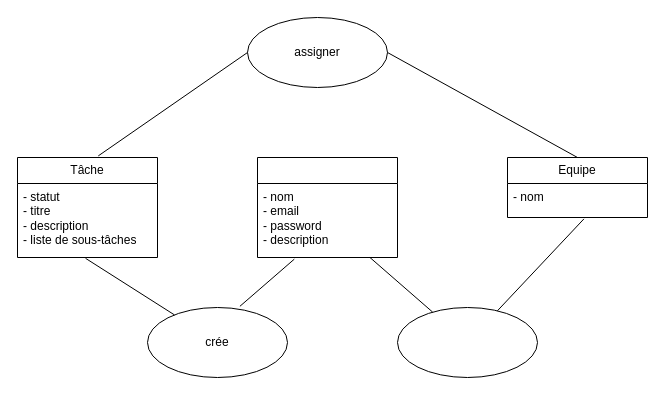
Some shapes in this 665 by 395 pixel diagram are drawn without their labels. Each missing label, with the box of its shape:
appartient: (396, 306, 538, 378)
Personne: (256, 156, 398, 258)
